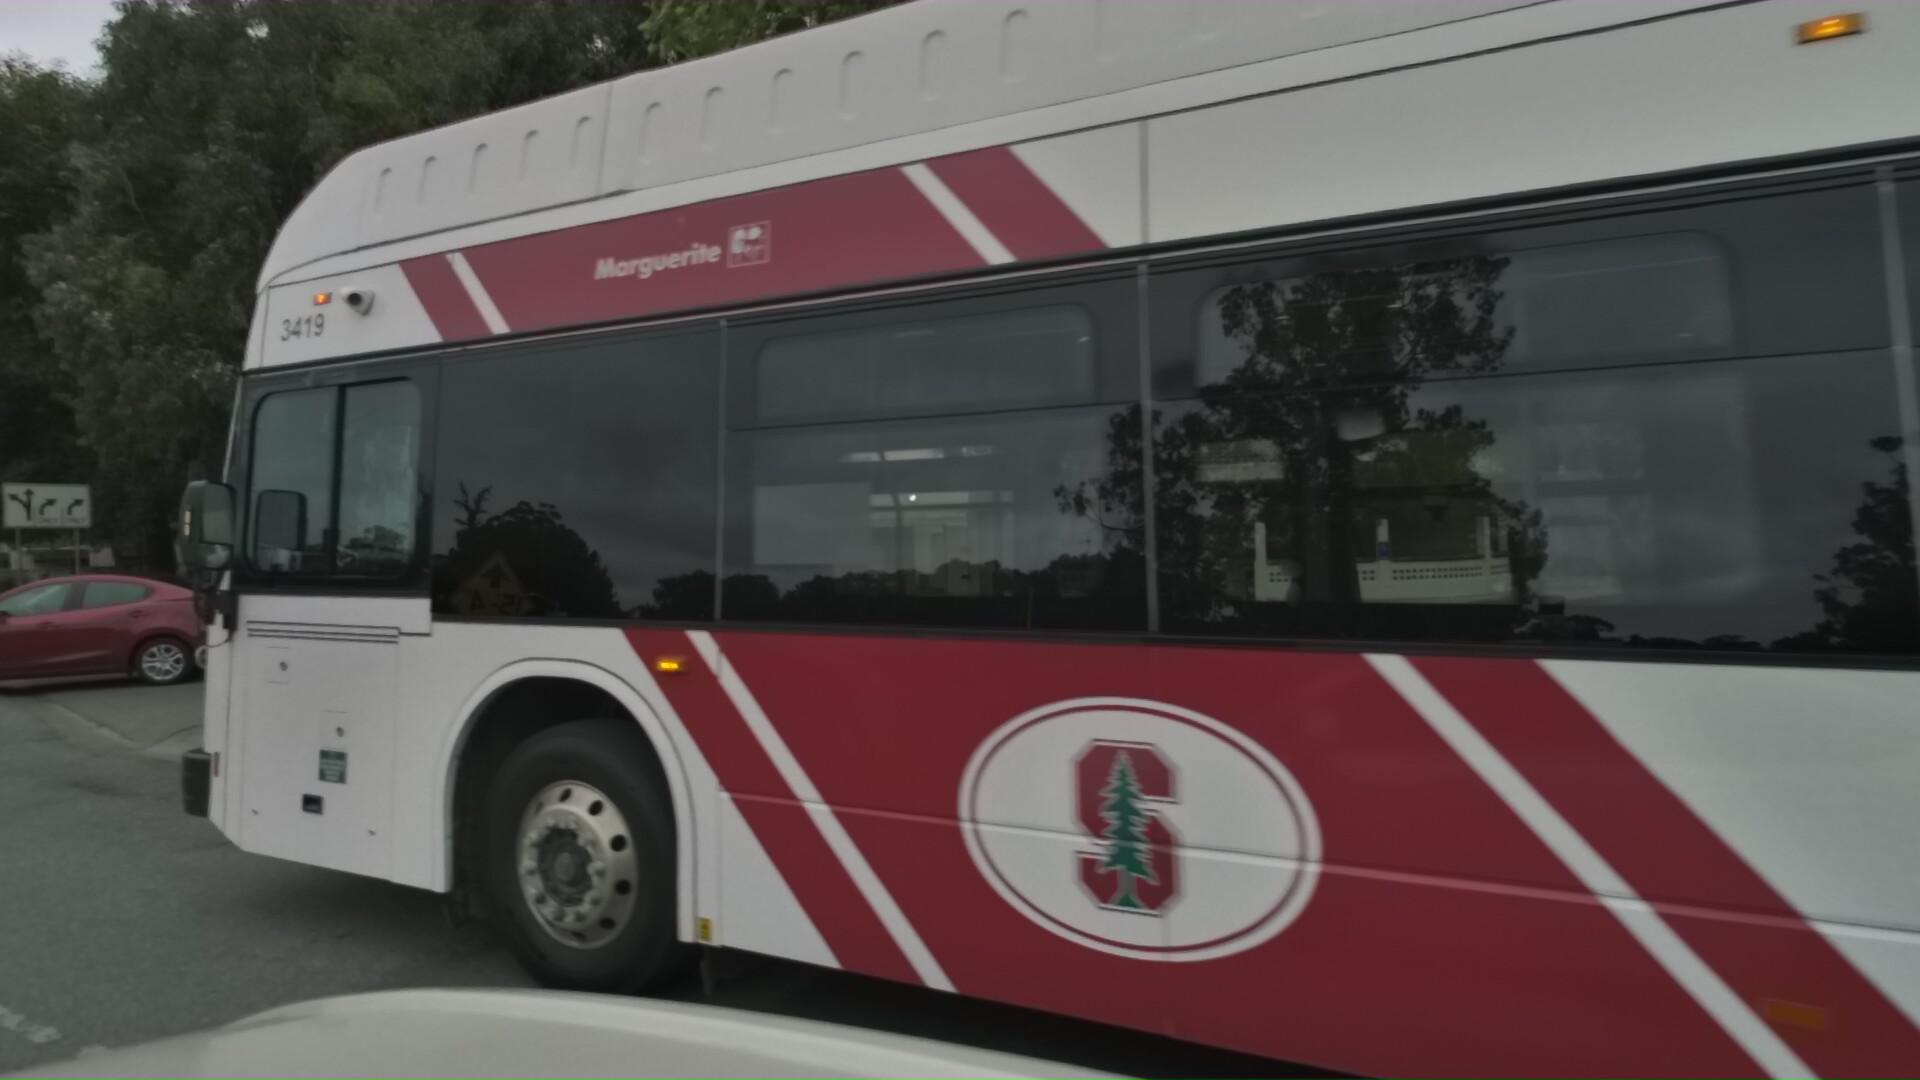car: (0, 568, 295, 724)
